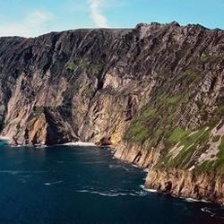neutral: (1, 18, 224, 215)
